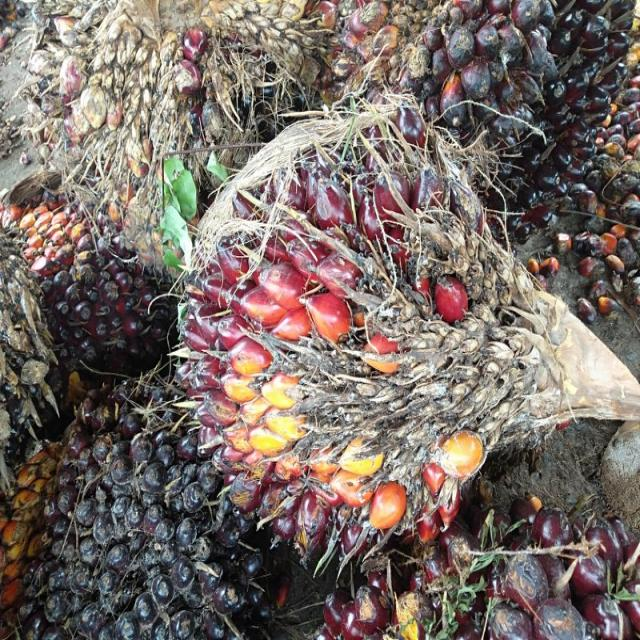fraksi 1: (172, 105, 513, 560)
